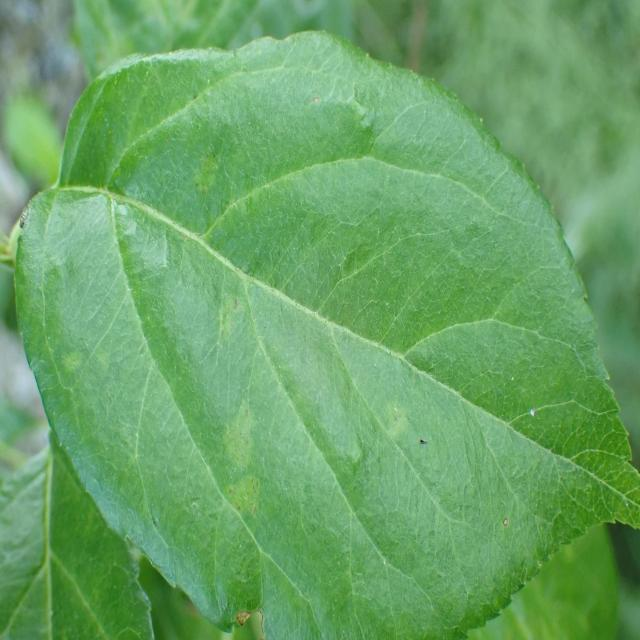scab: (42, 54, 437, 622)
